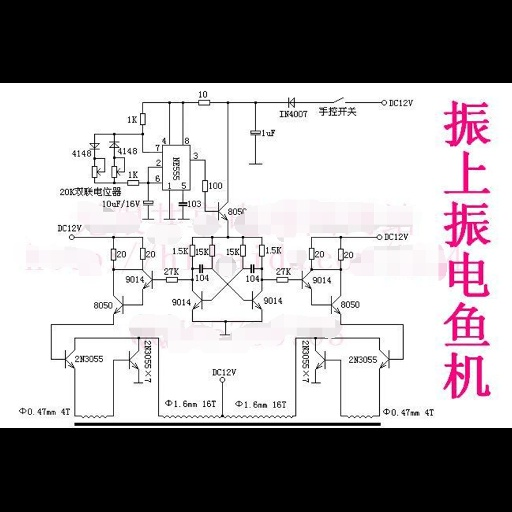capacitor: (195, 263, 207, 275), (248, 262, 258, 275), (176, 200, 188, 208)
firstresistance: (162, 274, 183, 285), (195, 98, 214, 109), (138, 111, 149, 128), (256, 242, 266, 260), (199, 178, 209, 195), (207, 242, 217, 259), (305, 245, 315, 262), (271, 276, 292, 284), (124, 178, 142, 187), (239, 243, 249, 259), (335, 246, 344, 263), (107, 247, 117, 262), (138, 245, 147, 261), (188, 242, 196, 259)
inductor: (224, 411, 294, 420), (162, 410, 221, 419), (343, 410, 376, 421), (77, 411, 111, 420)
npn: (60, 343, 76, 375), (110, 293, 131, 317), (377, 345, 394, 373), (191, 288, 210, 313), (313, 347, 329, 375), (123, 346, 140, 372), (140, 267, 157, 292), (247, 288, 264, 313), (325, 292, 342, 316), (214, 197, 229, 223)
seconddiode: (284, 94, 300, 109), (107, 137, 120, 151), (89, 141, 102, 152)
